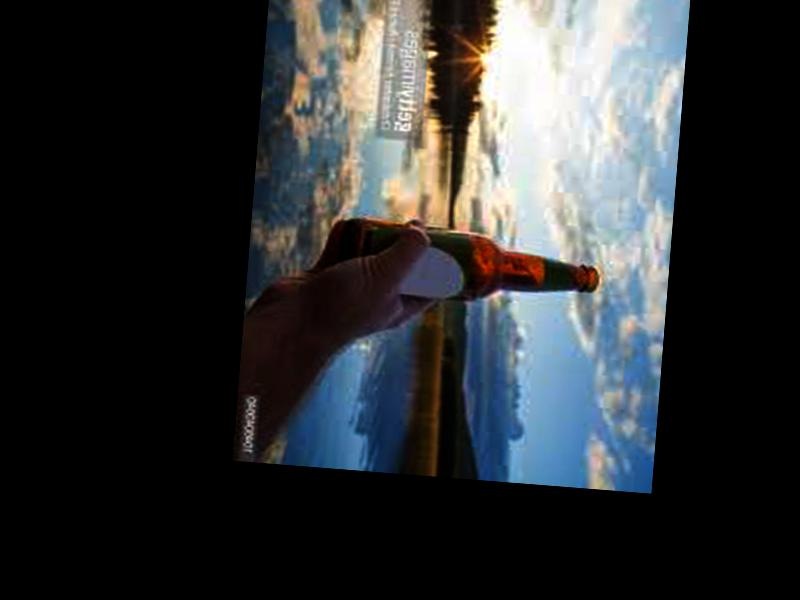Beer: (339, 215, 602, 313)
